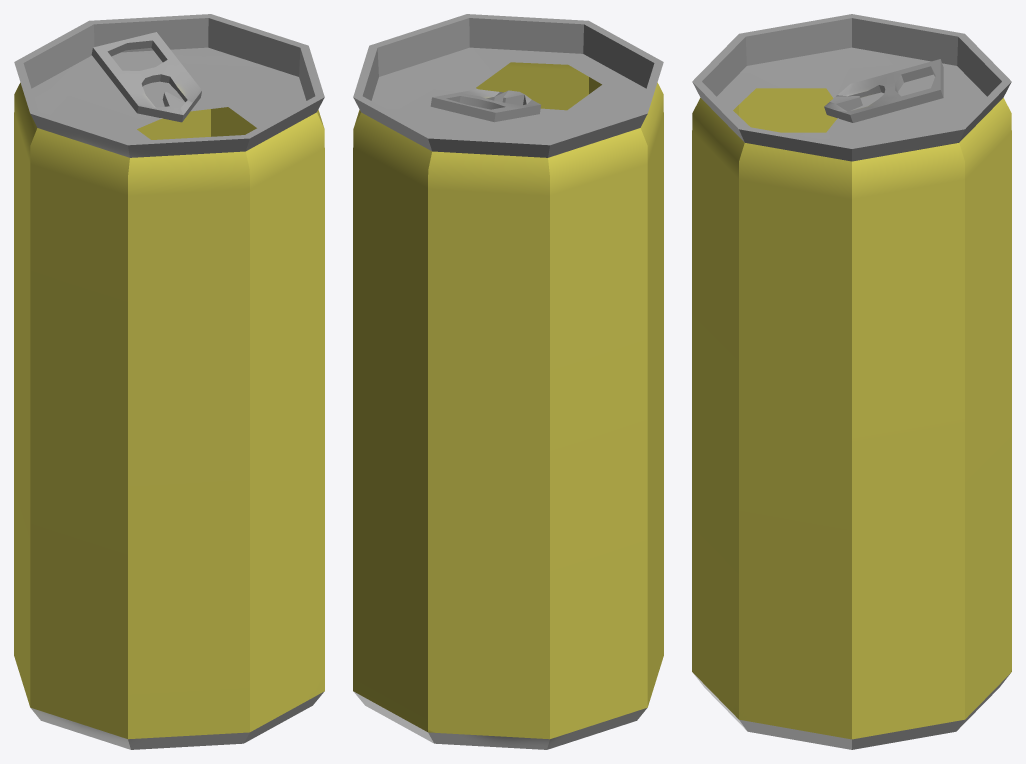
The picture shows the model from 3 angles, left to right: view 1: azimuth 30°, elevation 25°; view 2: azimuth 150°, elevation 25°; view 3: azimuth 270°, elevation 25°; orthographic projection.
Parts seen in each view (by area): view 1: 円柱.002; view 2: 円柱.002; view 3: 円柱.002.
Part boxes in pixels (x1,y1,x2,y2): 円柱.002: (14,14,324,749); 円柱.002: (353,14,663,749); 円柱.002: (692,14,1011,749).
Bounding box in the file's own units: 7.72 × 16.34 × 7.72.
Materials: 1 (1 with a texture image).
